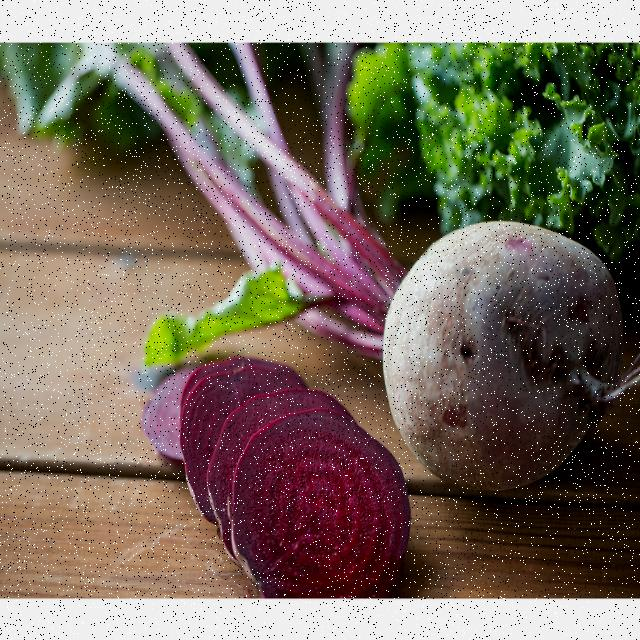Beetroot: (338, 200, 632, 488), (135, 332, 410, 610)
